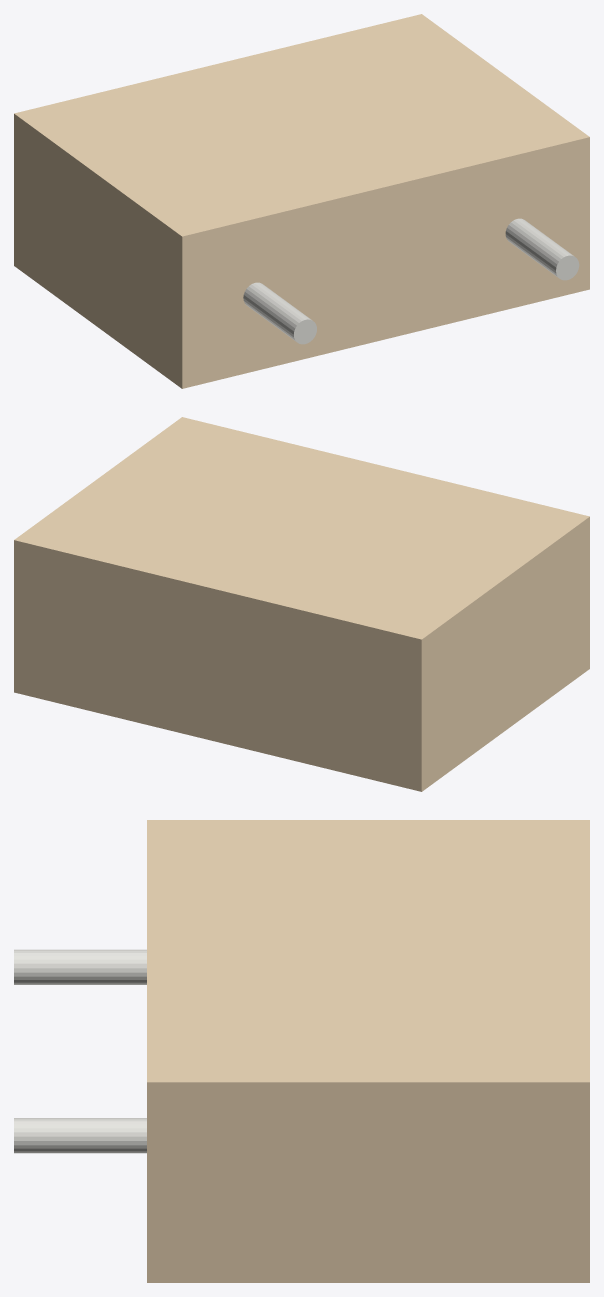
The picture shows the model from 3 angles, top to bottom: view 1: azimuth 30°, elevation 25°; view 2: azimuth 150°, elevation 25°; view 3: azimuth 270°, elevation 25°; orthographic projection. The views are drawn at different scales.
Visible parts, largest first — view 1: Shape_IndexedFaceSet.005, Shape_IndexedFaceSet.002, Shape_IndexedFaceSet.004, Shape_IndexedFaceSet.007, Shape_IndexedFaceSet.006; view 2: Shape_IndexedFaceSet.005, Shape_IndexedFaceSet.001, Shape_IndexedFaceSet.004; view 3: Shape_IndexedFaceSet.005, Shape_IndexedFaceSet.003, Shape_IndexedFaceSet.006, Shape_IndexedFaceSet.007.
Part boxes in pixels (<box>): Shape_IndexedFaceSet.005: <box>14,14,589,236</box>; Shape_IndexedFaceSet.002: <box>182,137,589,388</box>; Shape_IndexedFaceSet.004: <box>14,114,182,388</box>; Shape_IndexedFaceSet.007: <box>243,282,311,341</box>; Shape_IndexedFaceSet.006: <box>505,218,573,277</box>; Shape_IndexedFaceSet.005: <box>14,417,589,639</box>; Shape_IndexedFaceSet.001: <box>14,540,421,791</box>; Shape_IndexedFaceSet.004: <box>421,517,589,791</box>; Shape_IndexedFaceSet.005: <box>147,820,589,1082</box>; Shape_IndexedFaceSet.003: <box>147,1082,589,1282</box>; Shape_IndexedFaceSet.006: <box>14,1118,146,1153</box>; Shape_IndexedFaceSet.007: <box>14,949,146,984</box>.
Size of the model in its own units: 5.51 by 1.97 by 5.12.
